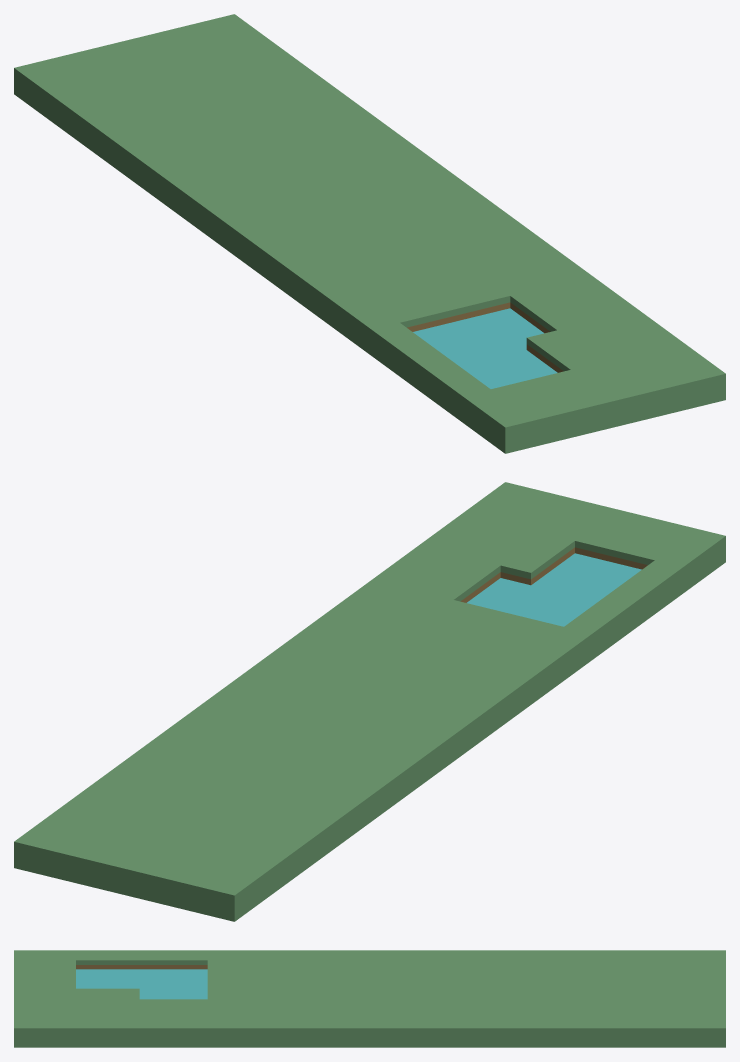
The model's file is Tile_03.fbx.
3 renders of one model, top to bottom at view 1: azimuth 30°, elevation 25°; view 2: azimuth 150°, elevation 25°; view 3: azimuth 270°, elevation 25°, orthographic. The views are drawn at different scales.
Visible parts, largest first — view 1: pCube18; view 2: pCube18; view 3: pCube18.
Boxes of the visible parts, box(x1,y1,x2,y2) form: pCube18: box(14, 14, 725, 453); pCube18: box(14, 482, 725, 921); pCube18: box(14, 950, 725, 1047).
Size of the model in its own units: 35 by 4 by 135.
